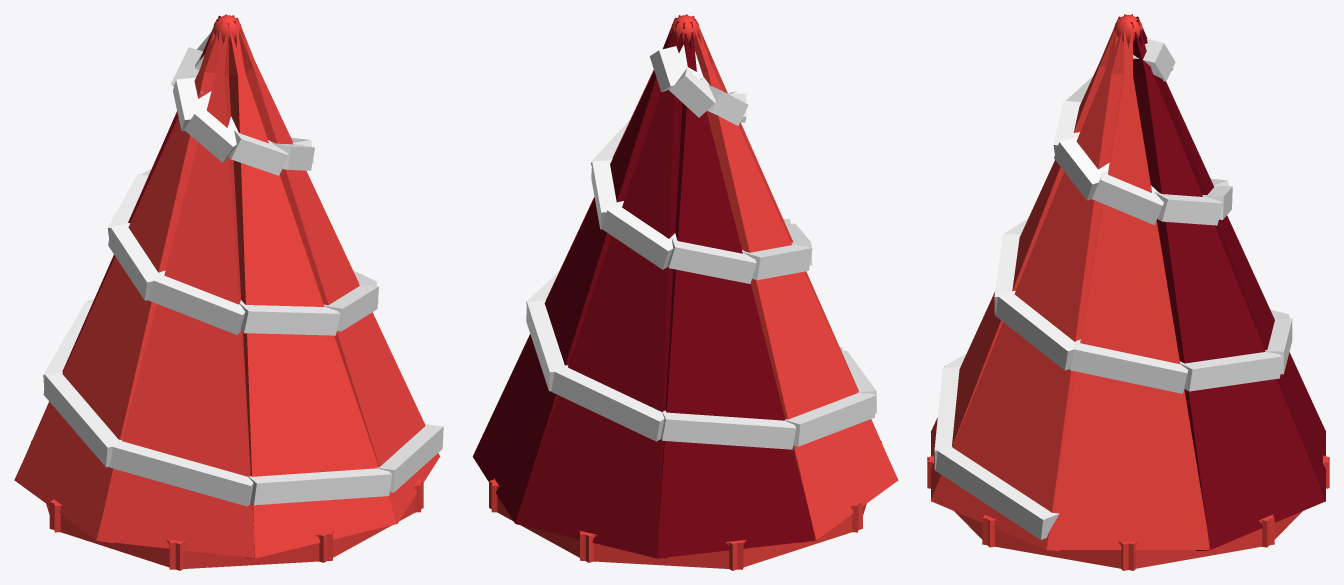
The model's file is CMU3DClothingHeadHatPartyRedWorldCloud.glb.
3 views of the same model, side by side, from view 1: azimuth 30°, elevation 25°; view 2: azimuth 150°, elevation 25°; view 3: azimuth 270°, elevation 25° (orthographic).
Parts seen in each view (by area): view 1: connected triangular cone panel 05.1, connected triangular cone panel 05.0, connected triangular cone panel 06.0, connected triangular cone panel 06.1, connected triangular cone panel 04.1, connected triangular cone panel 04.0, connected triangular cone panel 07.0, connected triangular cone panel 07.1, source diagonal white spiral 05.0, source diagonal white spiral 06.0, source diagonal white spiral 05.1, source diagonal white spiral 04.0 (+15 smaller); view 2: connected triangular cone panel 03.0, connected triangular cone panel 02.0, connected triangular cone panel 02.1, connected triangular cone panel 03.1, connected triangular cone panel 04.0, connected triangular cone panel 04.1, connected triangular cone panel 01.1, connected triangular cone panel 01.0, source diagonal white spiral 03.0, source diagonal white spiral 02.0, source diagonal white spiral 04.0, source diagonal white spiral 03.1 (+13 smaller); view 3: connected triangular cone panel 00.0, connected triangular cone panel 01.0, connected triangular cone panel 00.1, connected triangular cone panel 07.1, connected triangular cone panel 07.0, connected triangular cone panel 01.1, connected triangular cone panel 02.0, source diagonal white spiral 07.0, connected triangular cone panel 06.1, source diagonal white spiral 00.0, source diagonal white spiral 01.0, source diagonal white spiral 07.1 (+16 smaller).
Part boxes in pixels (x1=…): connected triangular cone panel 05.1: x1=172, y1=22, x2=255, y2=558; connected triangular cone panel 05.0: x1=96, y1=23, x2=229, y2=548; connected triangular cone panel 06.0: x1=229, y1=21, x2=328, y2=558; connected triangular cone panel 06.1: x1=227, y1=23, x2=397, y2=539; connected triangular cone panel 04.1: x1=56, y1=19, x2=218, y2=543; connected triangular cone panel 04.0: x1=14, y1=22, x2=222, y2=505; connected triangular cone panel 07.0: x1=236, y1=17, x2=416, y2=527; connected triangular cone panel 07.1: x1=233, y1=21, x2=439, y2=481; source diagonal white spiral 05.0: x1=109, y1=439, x2=253, y2=506; source diagonal white spiral 06.0: x1=248, y1=468, x2=391, y2=505; source diagonal white spiral 05.1: x1=148, y1=271, x2=245, y2=334; source diagonal white spiral 04.0: x1=43, y1=371, x2=118, y2=467; connected triangular cone panel 03.0: x1=654, y1=22, x2=740, y2=558; connected triangular cone panel 02.0: x1=515, y1=23, x2=685, y2=539; connected triangular cone panel 02.1: x1=585, y1=21, x2=682, y2=558; connected triangular cone panel 03.1: x1=683, y1=22, x2=816, y2=548; connected triangular cone panel 04.0: x1=694, y1=19, x2=856, y2=543; connected triangular cone panel 04.1: x1=689, y1=22, x2=897, y2=505; connected triangular cone panel 01.1: x1=496, y1=17, x2=676, y2=528; connected triangular cone panel 01.0: x1=473, y1=21, x2=678, y2=481; source diagonal white spiral 03.0: x1=660, y1=410, x2=796, y2=449; source diagonal white spiral 02.0: x1=551, y1=365, x2=664, y2=441; source diagonal white spiral 04.0: x1=784, y1=393, x2=876, y2=446; source diagonal white spiral 03.1: x1=667, y1=237, x2=756, y2=283; connected triangular cone panel 00.0: x1=1046, y1=23, x2=1132, y2=549; connected triangular cone panel 01.0: x1=1133, y1=19, x2=1268, y2=550; connected triangular cone panel 00.1: x1=1124, y1=23, x2=1210, y2=549; connected triangular cone panel 07.1: x1=988, y1=19, x2=1123, y2=550; connected triangular cone panel 07.0: x1=931, y1=22, x2=1128, y2=522; connected triangular cone panel 01.1: x1=1128, y1=22, x2=1325, y2=522; connected triangular cone panel 02.0: x1=1136, y1=16, x2=1325, y2=501; source diagonal white spiral 07.0: x1=935, y1=445, x2=1059, y2=539; connected triangular cone panel 06.1: x1=931, y1=16, x2=1120, y2=501; source diagonal white spiral 00.0: x1=1069, y1=340, x2=1187, y2=393; source diagonal white spiral 01.0: x1=1180, y1=352, x2=1282, y2=391; source diagonal white spiral 07.1: x1=995, y1=291, x2=1080, y2=370.
Bounding box in the file's own units: 0.2741 × 0.353 × 0.2741.
